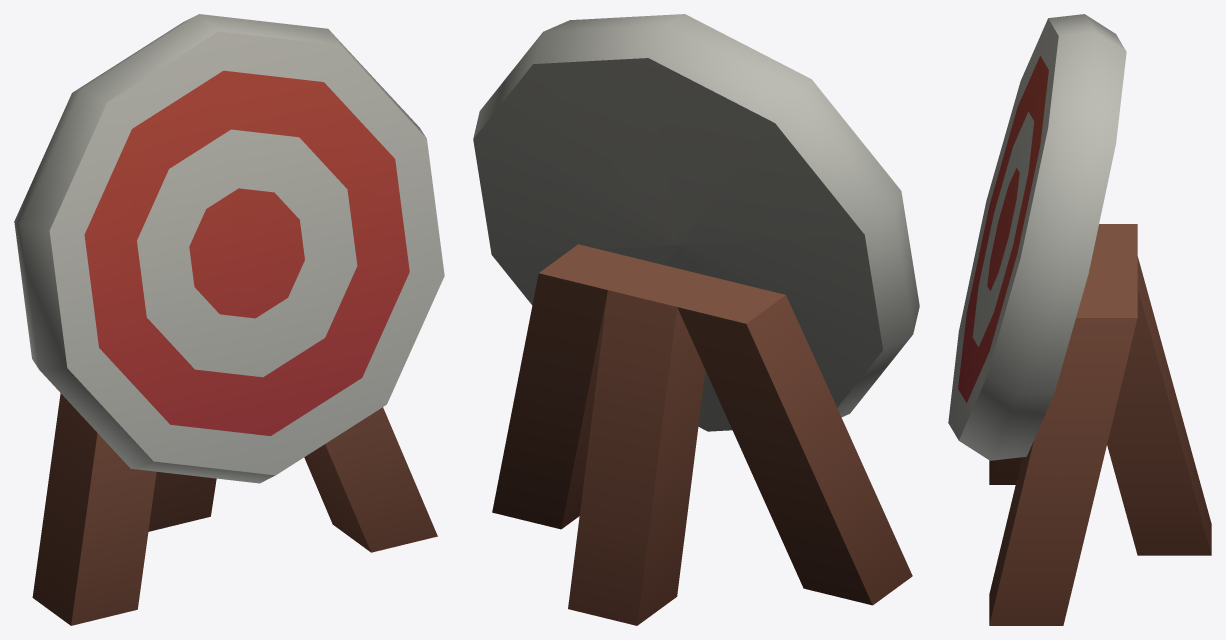
File: target.glb
3 renders of one model, left to right at view 1: azimuth 30°, elevation 25°; view 2: azimuth 150°, elevation 25°; view 3: azimuth 270°, elevation 25°, orthographic. The views are drawn at different scales.
Visible parts, largest first — view 1: target; view 2: target; view 3: target.
Boxes of the visible parts, bbox=[...] form: target: bbox=[14, 14, 444, 625]; target: bbox=[473, 14, 919, 625]; target: bbox=[948, 14, 1211, 625].
Bounding box in the file's own units: 1.27 × 1.6 × 0.7534.
